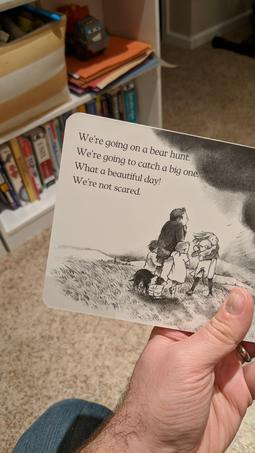text block: (68, 120, 203, 201)
